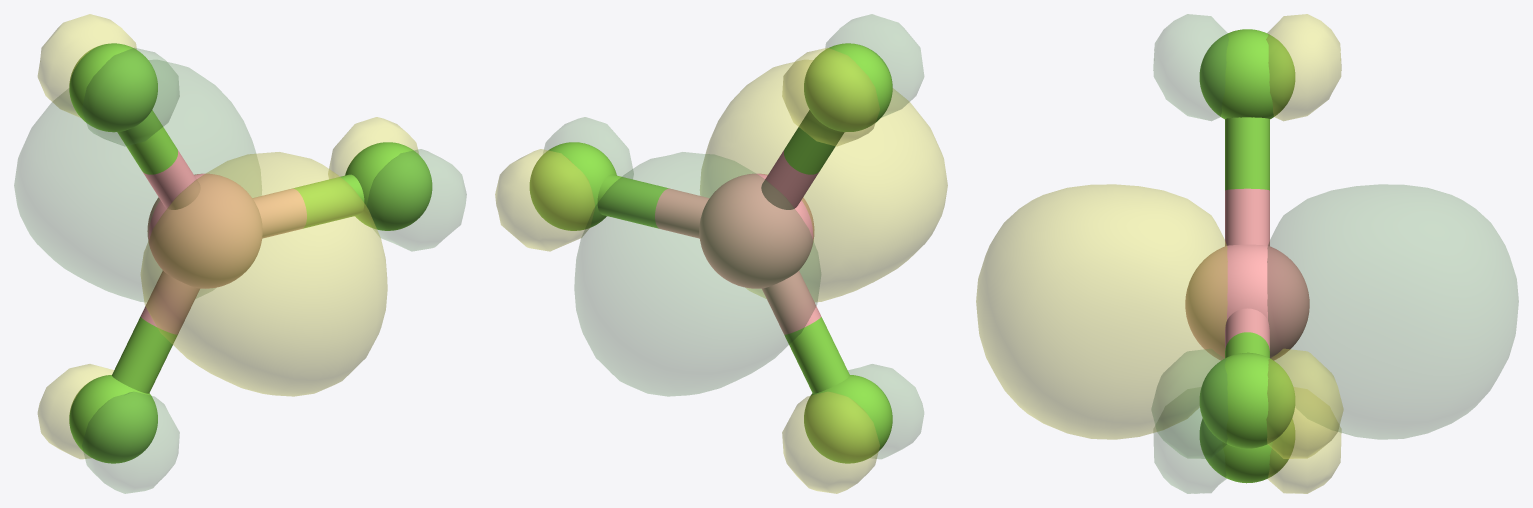
3 renders of one model, left to right at view 1: azimuth 30°, elevation 25°; view 2: azimuth 150°, elevation 25°; view 3: azimuth 270°, elevation 25°, orthographic. The views are drawn at different scales.
Parts seen in each view (by area): view 1: surface.001, surface, atoms.001, atoms, bonds.001, bonds; view 2: surface, surface.001, atoms.001, atoms, bonds.001, bonds; view 3: surface.001, surface, atoms.001, atoms, bonds.001, bonds.
Boxes of the visible parts, left/top/right/bottom form: surface.001: left=37, top=14, right=418, bottom=459; surface: left=14, top=48, right=466, bottom=493; atoms.001: left=69, top=43, right=432, bottom=463; atoms: left=147, top=173, right=262, bottom=288; bonds.001: left=112, top=110, right=364, bottom=393; bonds: left=140, top=149, right=306, bottom=334; surface: left=543, top=14, right=923, bottom=458; surface.001: left=495, top=47, right=947, bottom=493; atoms.001: left=529, top=43, right=892, bottom=463; atoms: left=699, top=173, right=814, bottom=288; bonds.001: left=597, top=110, right=849, bottom=393; bonds: left=655, top=150, right=821, bottom=334; surface.001: left=976, top=14, right=1343, bottom=493; surface: left=1151, top=14, right=1518, bottom=493; atoms.001: left=1199, top=29, right=1295, bottom=483; atoms: left=1185, top=244, right=1309, bottom=360; bonds.001: left=1225, top=117, right=1269, bottom=358; bonds: left=1225, top=188, right=1269, bottom=350.
Bounding box in the file's own units: 3.11 × 3.47 × 3.62.
